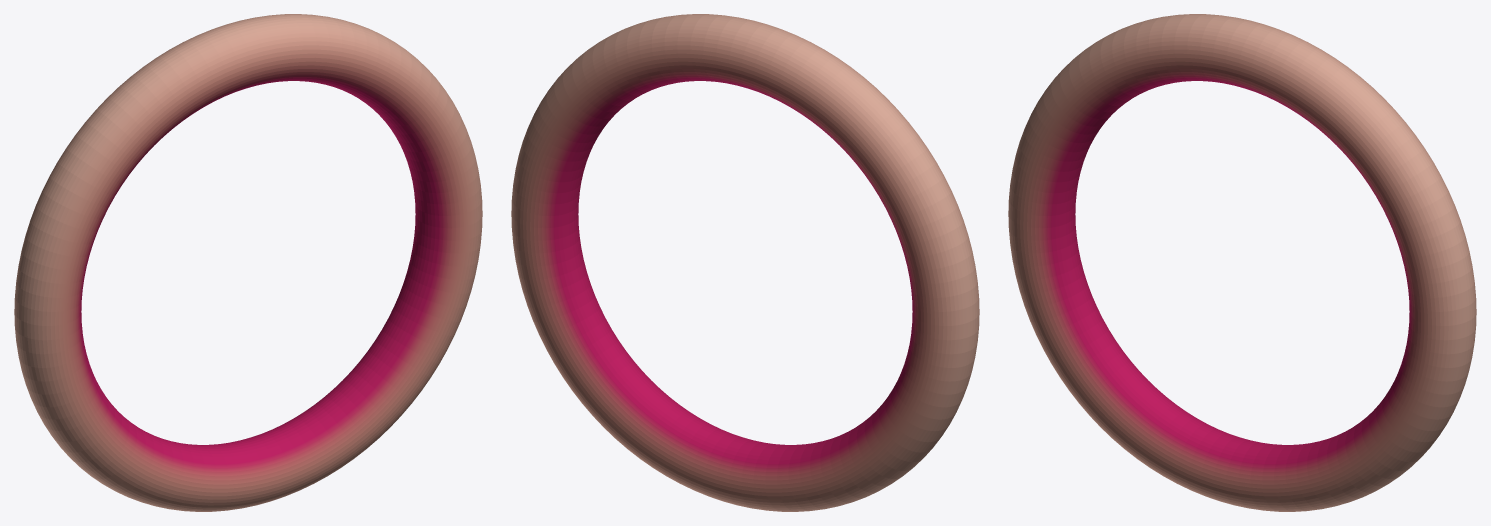
The picture shows the model from 3 angles, left to right: view 1: azimuth 30°, elevation 25°; view 2: azimuth 150°, elevation 25°; view 3: azimuth 330°, elevation 25°; orthographic projection.
Parts seen in each view (by area): view 1: world; view 2: world; view 3: world.
Part boxes in pixels (x1=…): world: x1=14, y1=14, x2=482, y2=511; world: x1=511, y1=14, x2=979, y2=511; world: x1=1008, y1=14, x2=1476, y2=511.
Size of the model in its own units: 22.13 by 22.13 by 2.79.
